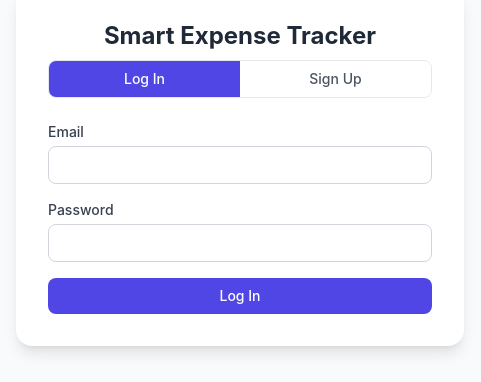
Test: AuthPage — Login mode › shows validation errors when password is empty on submit
In the field labelled "Email": (240, 165) x1=48 y1=146 x2=432 y2=184, type "user@example.com"
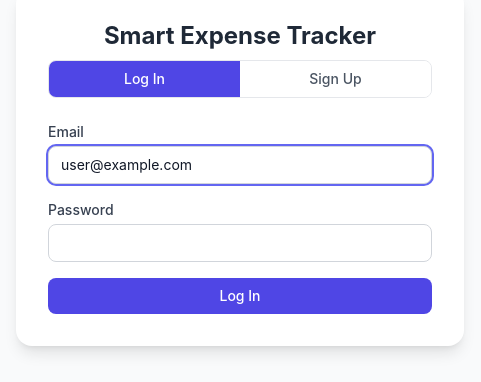
Click the submit button: (240, 296) x1=48 y1=278 x2=432 y2=314
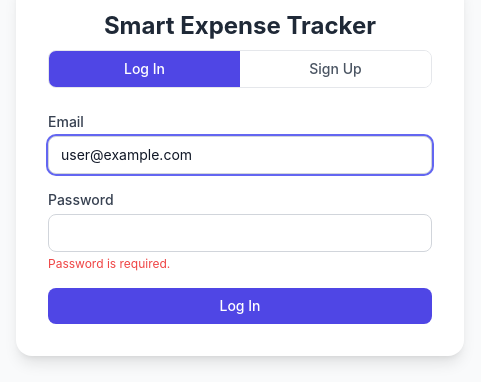
Check: the text "Password is required." is shown, box x1=48 y1=256 x2=170 y2=271
